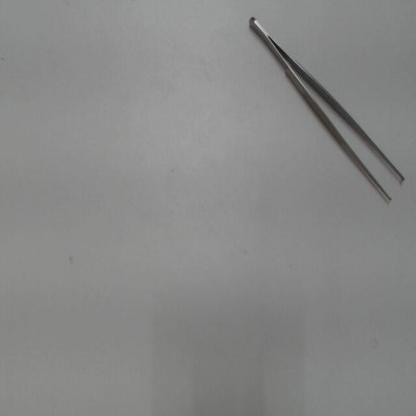Gillies Toothed Dissector: (240, 5, 411, 208)
